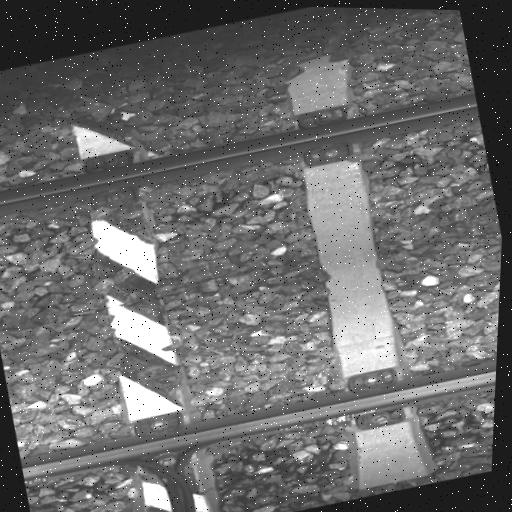sleeper: (259, 49, 444, 494), (45, 93, 228, 512)
